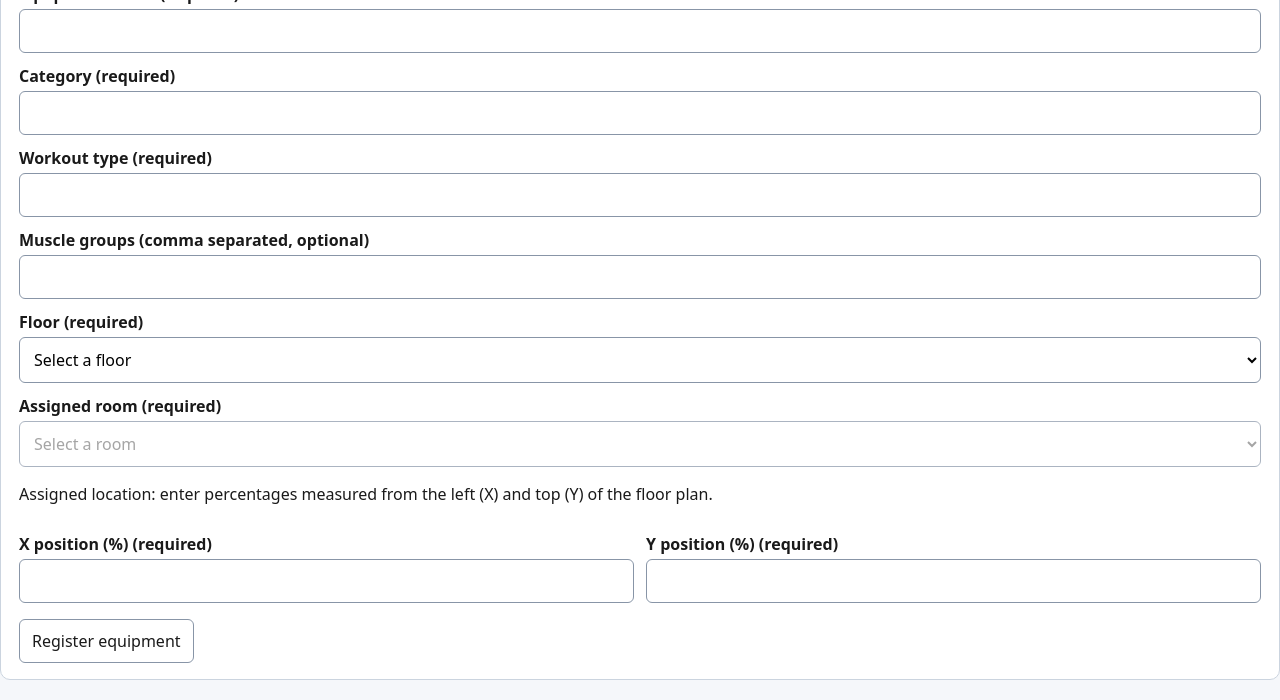
Test case: shows required-field errors and does not post an incomplete entry
(page scrolled)
Step 1. Click the button "Register equipment" → (106, 641), box [19,619,194,663]
(page scrolled)
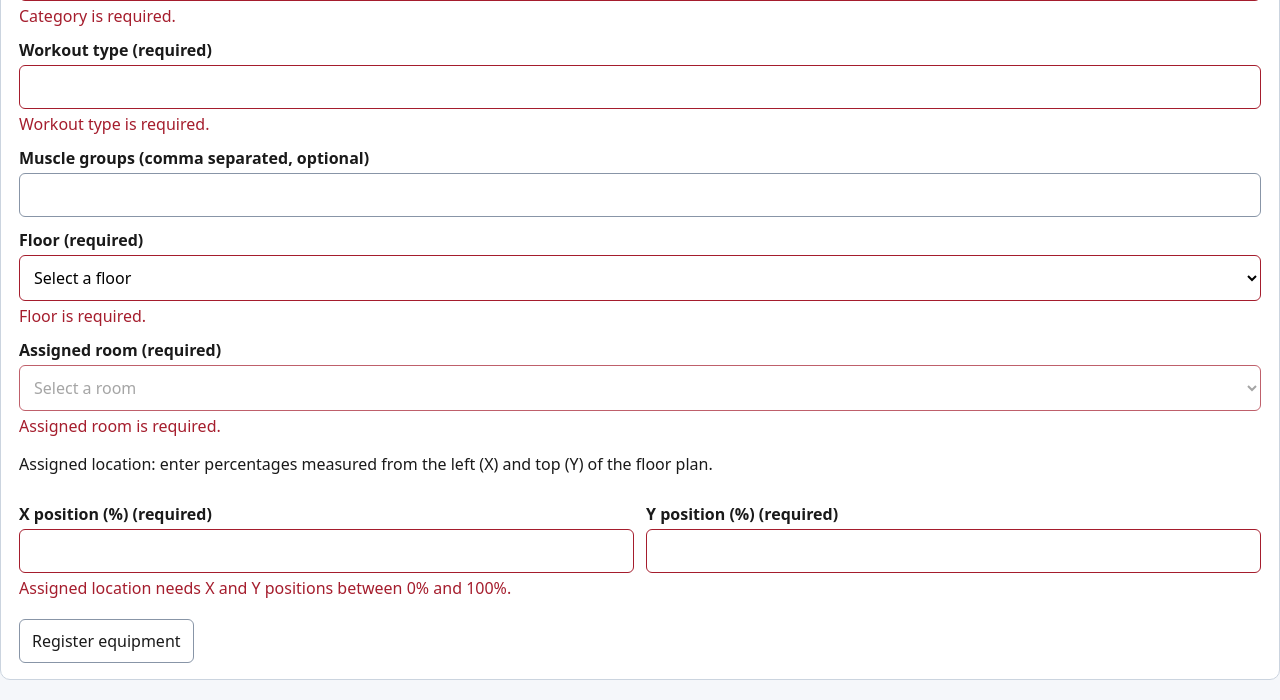
Now the text "Category is required." is shown, box [19,5,176,27]
Now the text "Floor is required." is shown, box [19,305,146,327]
Now the text "Assigned room is required." is shown, box [19,415,221,437]
